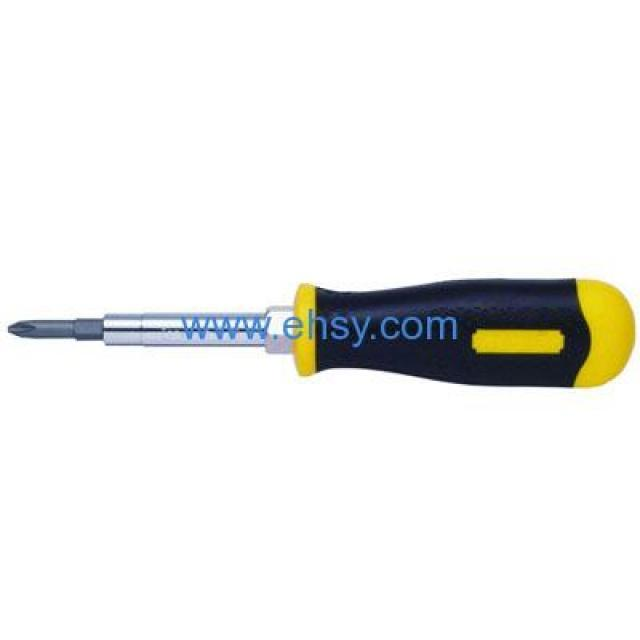screwdriver: (10, 266, 640, 398)
